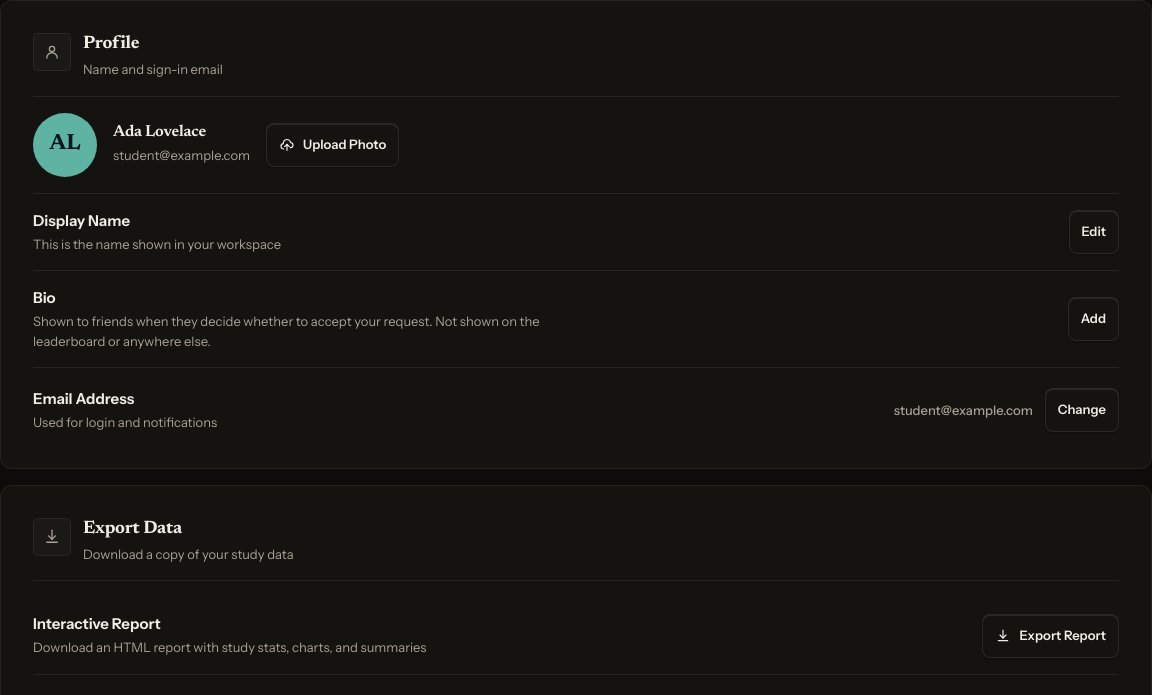
Scenario: AccountTab › keeps the name form closed until Edit is pressed
Click the button "Edit" at x=1094, y=232, box [1068,210,1119,254]
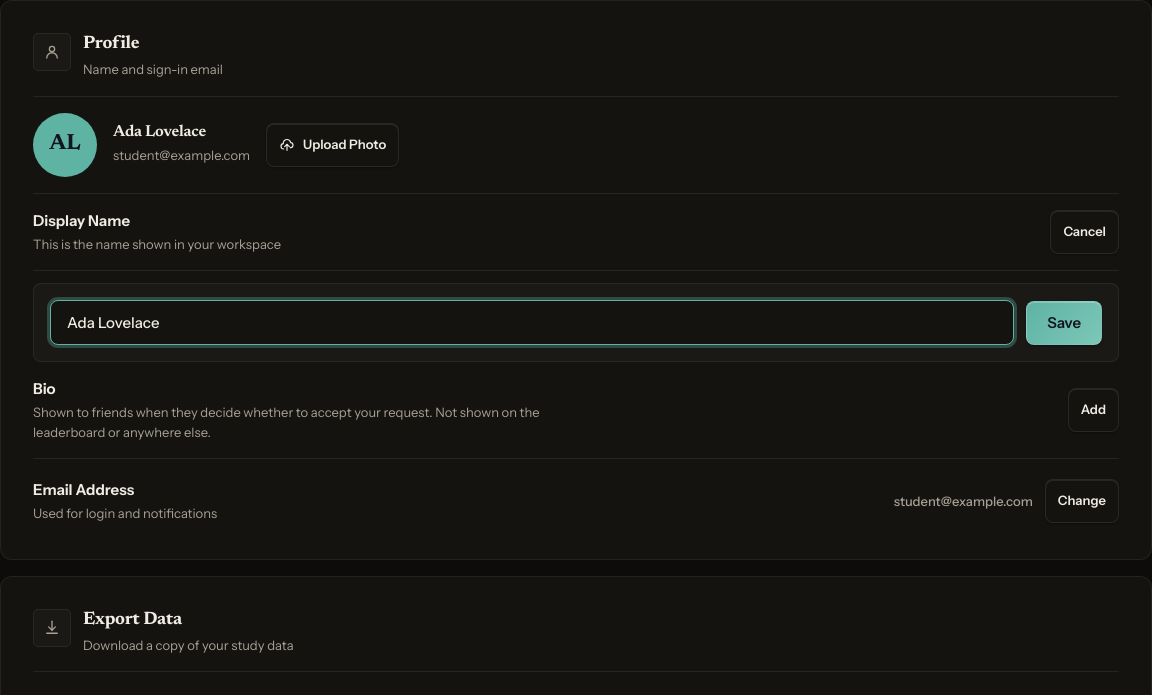
Check: the button "Cancel" is shown, box [1050,210,1119,254]
